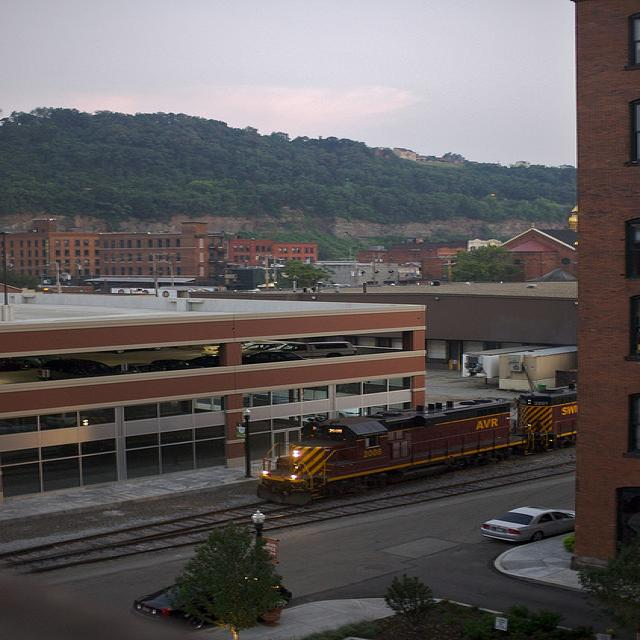Vehicle: (132, 584, 294, 630), (481, 506, 575, 542), (264, 342, 354, 358), (0, 360, 50, 384), (240, 340, 280, 360), (250, 350, 306, 362), (152, 359, 205, 371), (112, 362, 168, 373)
